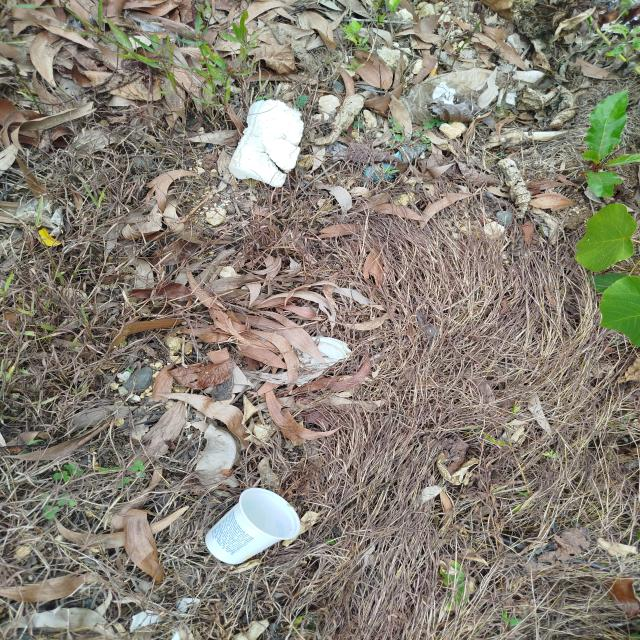plastic: (215, 87, 327, 215), (198, 484, 318, 574)
